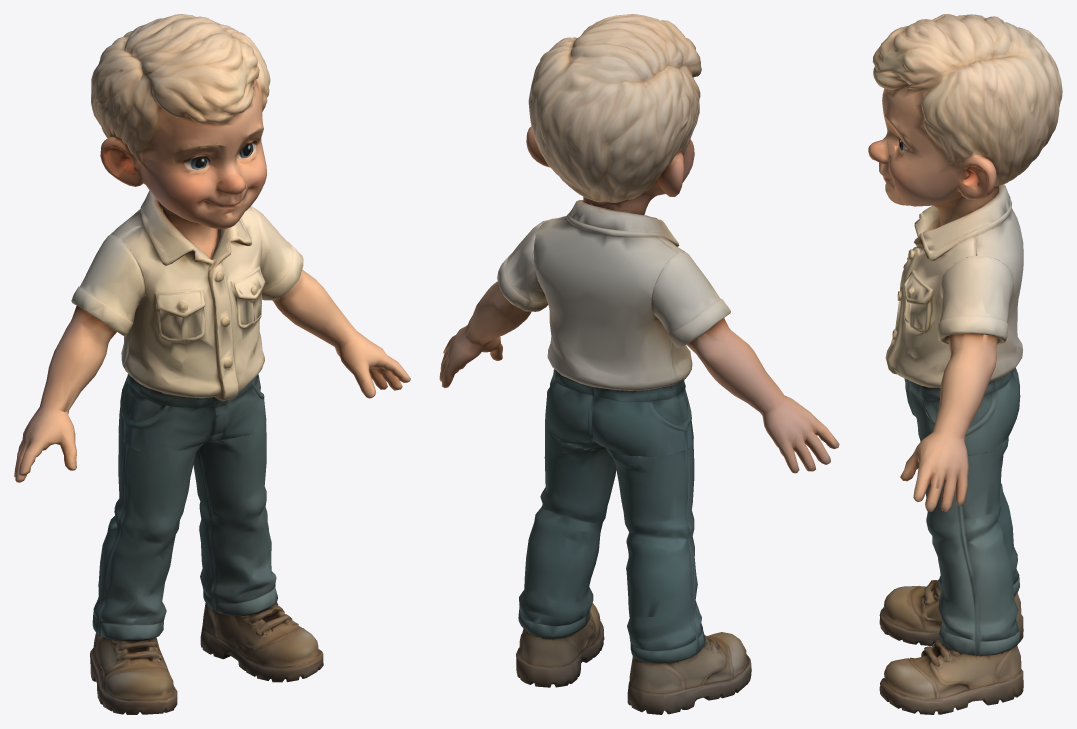
File: egill-parts.glb
3 renders of one model, left to right at view 1: azimuth 30°, elevation 25°; view 2: azimuth 150°, elevation 25°; view 3: azimuth 270°, elevation 25°, orthographic.
Parts seen in each view (by area): view 1: tripo_part_0, tripo_part_1, tripo_part_4, tripo_part_3, tripo_part_8, tripo_part_6, tripo_part_2, tripo_part_7, tripo_part_5, tripo_part_9, tripo_part_10; view 2: tripo_part_0, tripo_part_1, tripo_part_4, tripo_part_3, tripo_part_8, tripo_part_6, tripo_part_5, tripo_part_9, tripo_part_2, tripo_part_7, tripo_part_10; view 3: tripo_part_0, tripo_part_1, tripo_part_3, tripo_part_7, tripo_part_2, tripo_part_10, tripo_part_8, tripo_part_5, tripo_part_4.
Part boxes in pixels (x1,y1,x2,y2): tripo_part_0: (91,14,270,257); tripo_part_1: (111,190,265,401); tripo_part_4: (92,435,203,641); tripo_part_3: (193,422,277,616); tripo_part_8: (118,374,266,453); tripo_part_6: (14,306,116,482); tripo_part_2: (200,602,323,682); tripo_part_7: (272,269,410,398); tripo_part_5: (90,632,177,714); tripo_part_9: (71,234,144,336); tripo_part_10: (250,206,303,300); tripo_part_0: (526,14,701,214); tripo_part_1: (533,200,692,391); tripo_part_4: (606,442,705,663); tripo_part_3: (518,428,616,640); tripo_part_8: (545,369,693,458); tripo_part_6: (686,318,839,473); tripo_part_5: (627,632,751,714); tripo_part_9: (651,250,730,347); tripo_part_2: (516,603,604,687); tripo_part_7: (439,280,537,387); tripo_part_10: (497,220,548,311); tripo_part_0: (868,14,1062,226); tripo_part_1: (885,184,1023,389); tripo_part_3: (920,438,1019,656); tripo_part_7: (900,334,997,511); tripo_part_2: (879,638,1023,714); tripo_part_10: (937,255,1013,345); tripo_part_8: (904,368,1020,455); tripo_part_5: (879,579,1023,645); tripo_part_4: (938,483,1019,595).
Size of the model in its own units: 0.6201 by 0.9799 by 0.268.
Materials: 1 (1 with a texture image).
